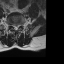CCS_normal: (15, 24, 16, 31)
LFS_stenosis: (18, 23, 20, 28)
LLS_normal: (17, 24, 18, 30)
RFS_stenosis: (11, 23, 13, 28)
RLS_normal: (13, 24, 15, 30)
